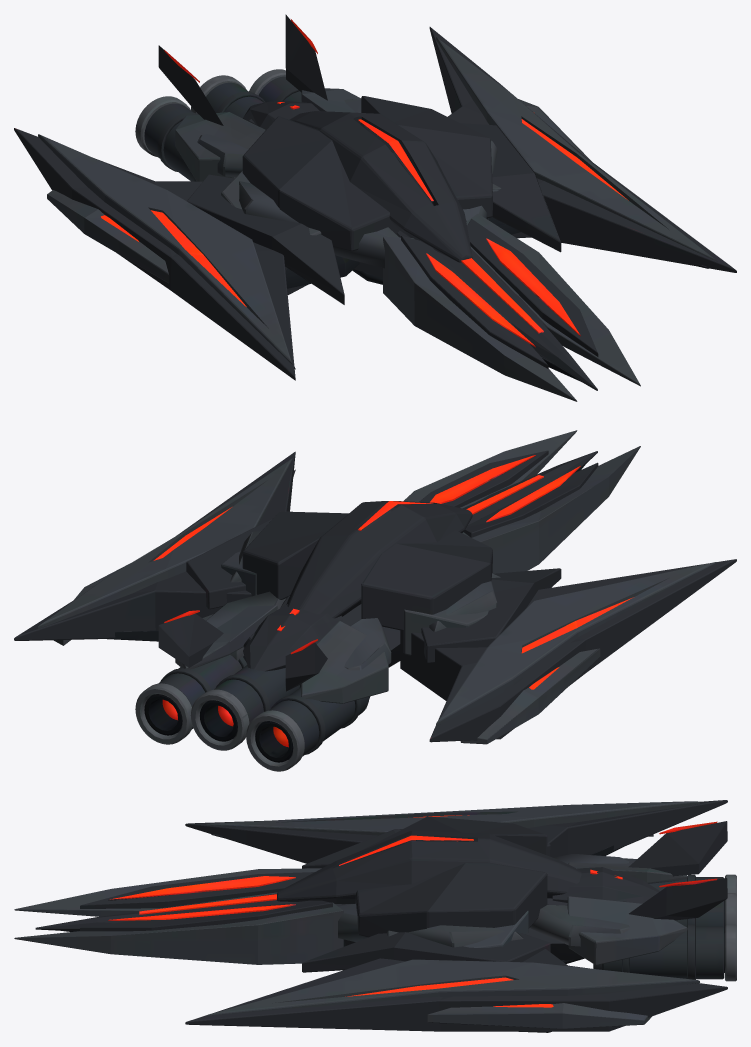
The picture shows the model from 3 angles, top to bottom: view 1: azimuth 30°, elevation 25°; view 2: azimuth 150°, elevation 25°; view 3: azimuth 270°, elevation 25°; orthographic projection. The views are drawn at different scales.
Parts seen in each view (by area): view 1: S1_EnemyFighter_B_LOD1; view 2: S1_EnemyFighter_B_LOD1; view 3: S1_EnemyFighter_B_LOD1.
Part boxes in pixels (x1,y1,x2,y2): S1_EnemyFighter_B_LOD1: (14,14,736,401); S1_EnemyFighter_B_LOD1: (14,430,736,771); S1_EnemyFighter_B_LOD1: (14,800,736,1032).
Bounding box in the file's own units: 7.72 × 2.16 × 11.54.
1 material, 1 textured.
